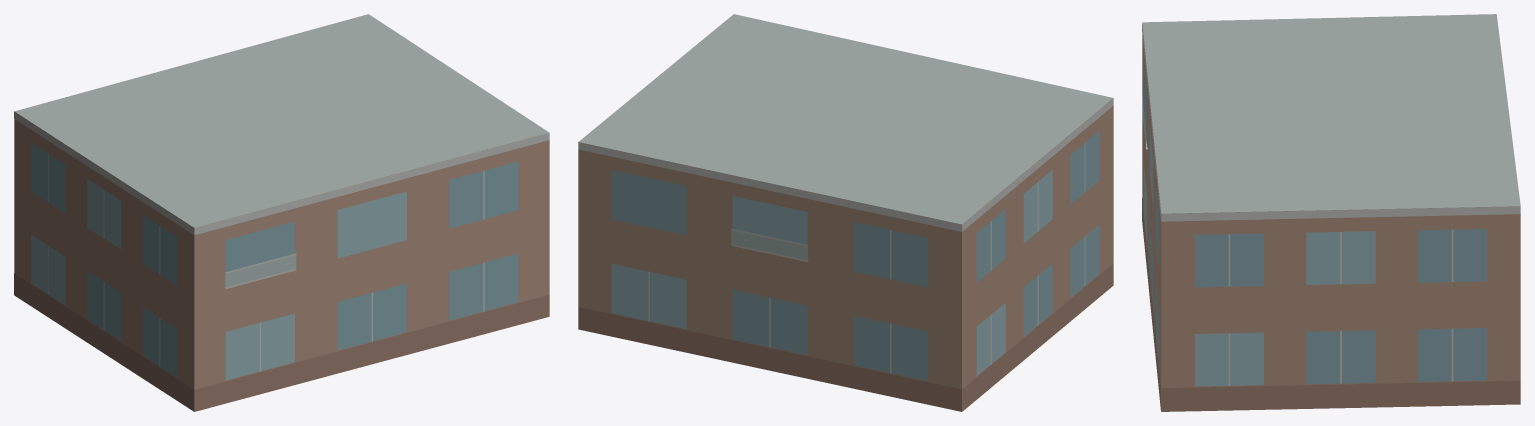
The model's file is survey-upis-32702919.glb.
The picture shows the model from 3 angles, left to right: view 1: azimuth 30°, elevation 25°; view 2: azimuth 150°, elevation 25°; view 3: azimuth 270°, elevation 25°; orthographic projection. The views are drawn at different scales.
Visible parts, largest first — view 1: survey-upis-32702919.tmp; view 2: survey-upis-32702919.tmp; view 3: survey-upis-32702919.tmp.
Part boxes in pixels (x1,y1,x2,y2): survey-upis-32702919.tmp: [14, 14, 549, 411]; survey-upis-32702919.tmp: [578, 14, 1113, 411]; survey-upis-32702919.tmp: [1142, 14, 1520, 411].
Size of the model in its own units: 13.19 by 6.1 by 10.57.
